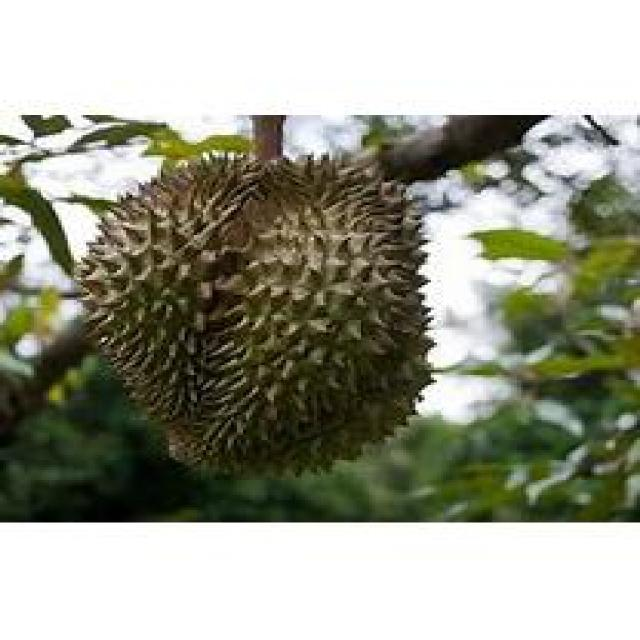fruit: (31, 130, 458, 508)
